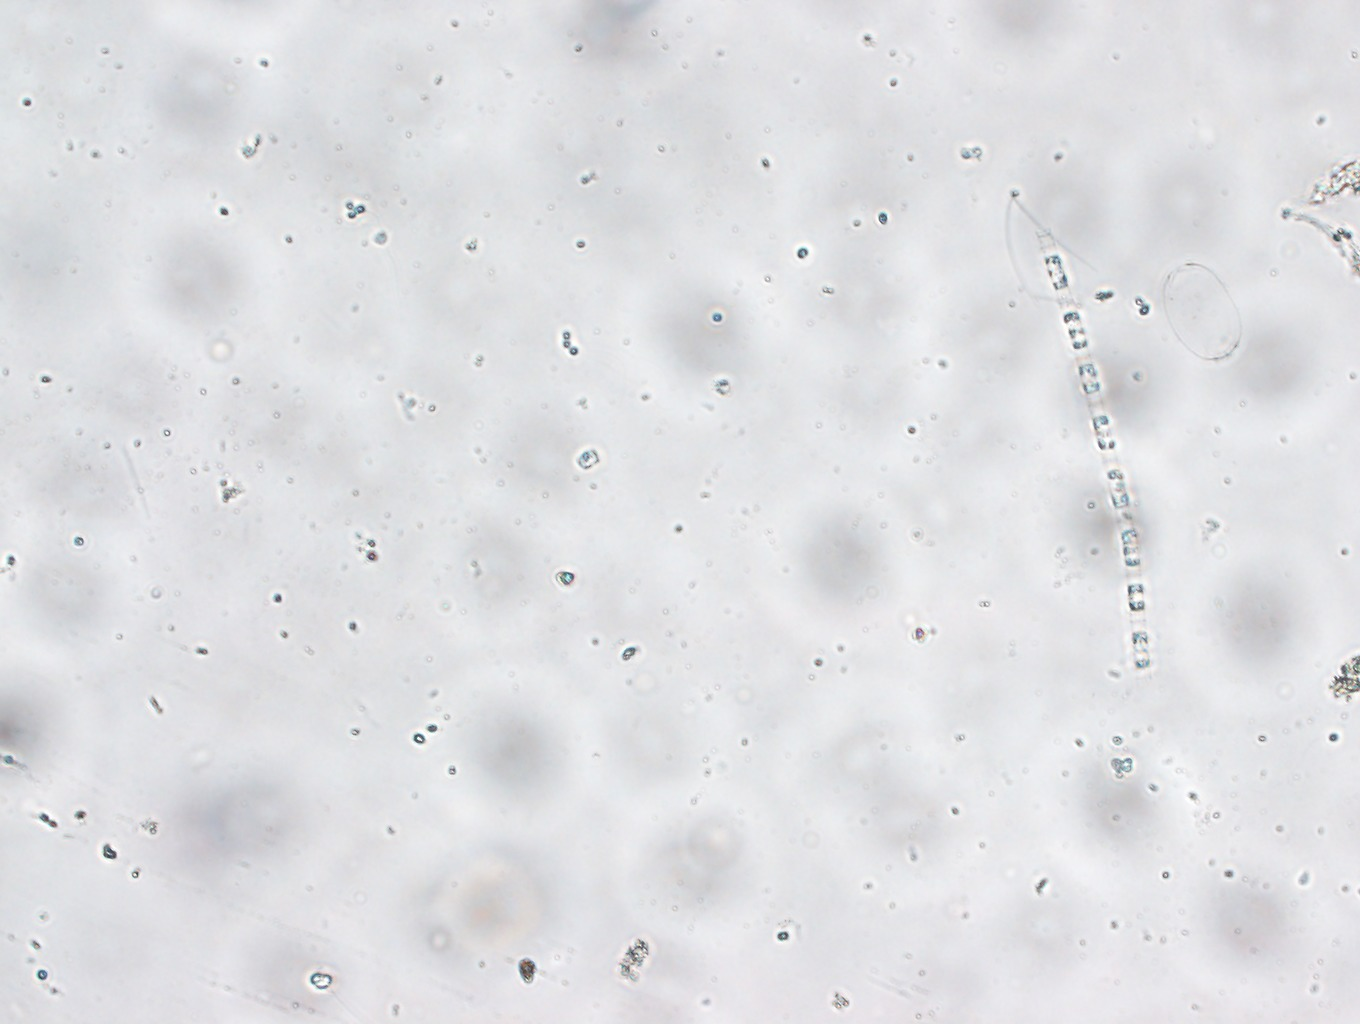skeletonema: (1035, 238, 1180, 689)
